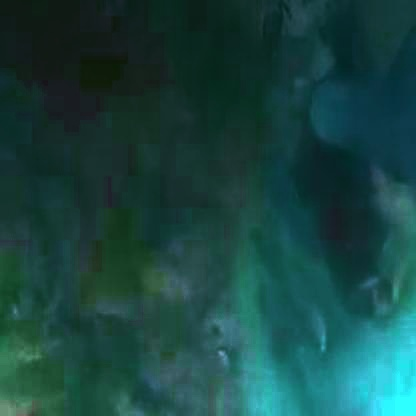misc: (264, 43, 416, 310)
